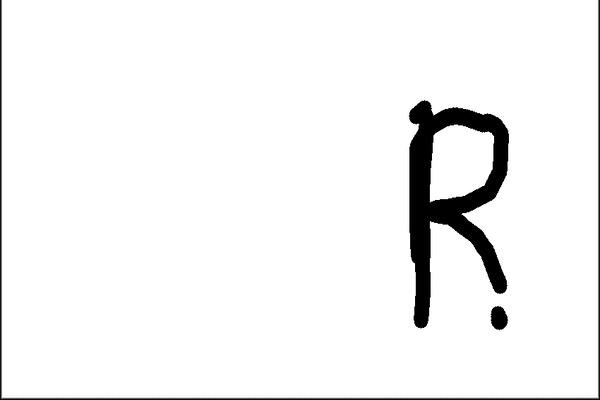R: (394, 92, 536, 349)
